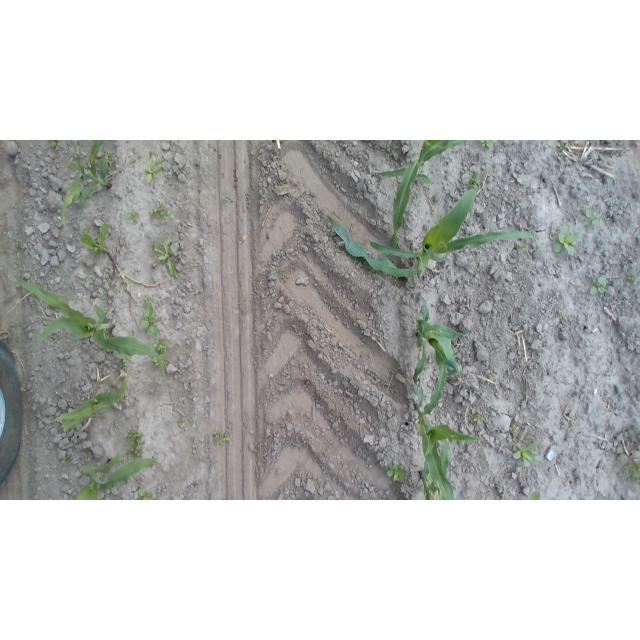Maize: (322, 177, 533, 280), (19, 282, 166, 379), (374, 140, 467, 256), (412, 359, 484, 500), (414, 294, 471, 406), (52, 367, 131, 435), (62, 140, 114, 232), (71, 453, 162, 500), (418, 439, 450, 500)
Weeds: (153, 237, 180, 279), (551, 223, 581, 259), (124, 426, 150, 458), (139, 303, 162, 338), (510, 441, 539, 468), (618, 457, 640, 485), (150, 201, 171, 224), (582, 207, 603, 229), (143, 157, 161, 182), (588, 275, 608, 296), (387, 462, 406, 483), (213, 428, 232, 446), (466, 173, 482, 189), (121, 212, 139, 226), (153, 338, 168, 354), (625, 272, 639, 288), (138, 490, 155, 500), (481, 141, 496, 152), (82, 222, 94, 234), (473, 412, 483, 425), (528, 491, 542, 500), (106, 153, 114, 168), (121, 354, 131, 366), (509, 422, 519, 434), (557, 141, 568, 151), (20, 384, 29, 395), (517, 244, 528, 253), (48, 140, 60, 148), (60, 457, 70, 466), (472, 257, 480, 266), (144, 293, 152, 301), (223, 194, 230, 202), (127, 330, 134, 336), (68, 344, 74, 351), (177, 419, 184, 425), (153, 357, 157, 362)
